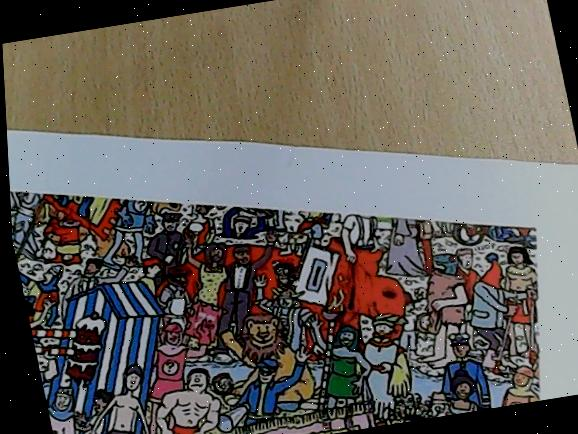waldo: (270, 258, 297, 289)
